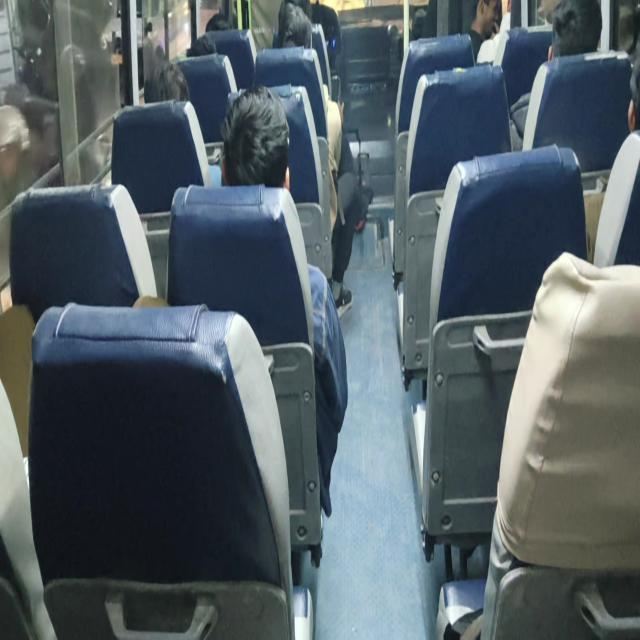person: (217, 84, 349, 516), (276, 1, 372, 317), (509, 0, 603, 149), (584, 53, 639, 265), (220, 84, 290, 190), (20, 95, 60, 185), (0, 102, 31, 212), (548, 0, 602, 60), (465, 0, 503, 63), (277, 1, 313, 48)
